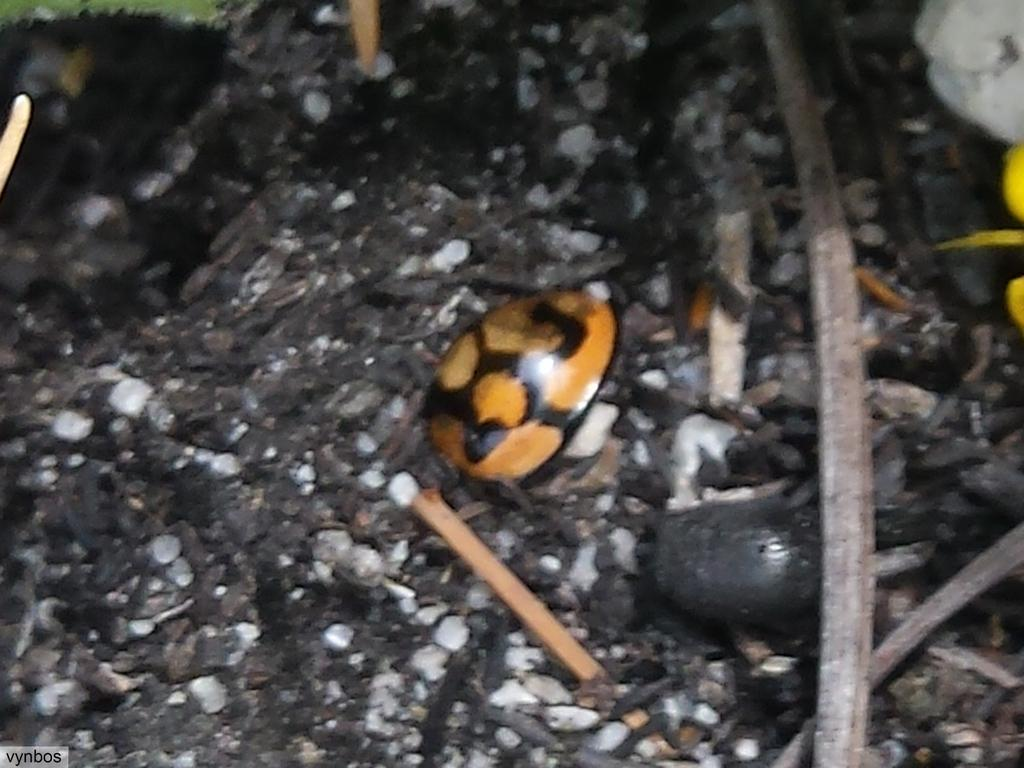ladybug: (421, 283, 623, 485)
